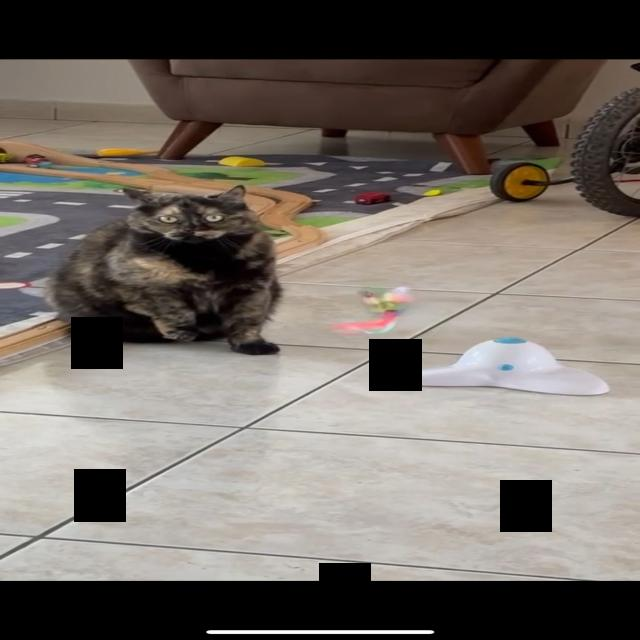authorized: (42, 184, 284, 356)
